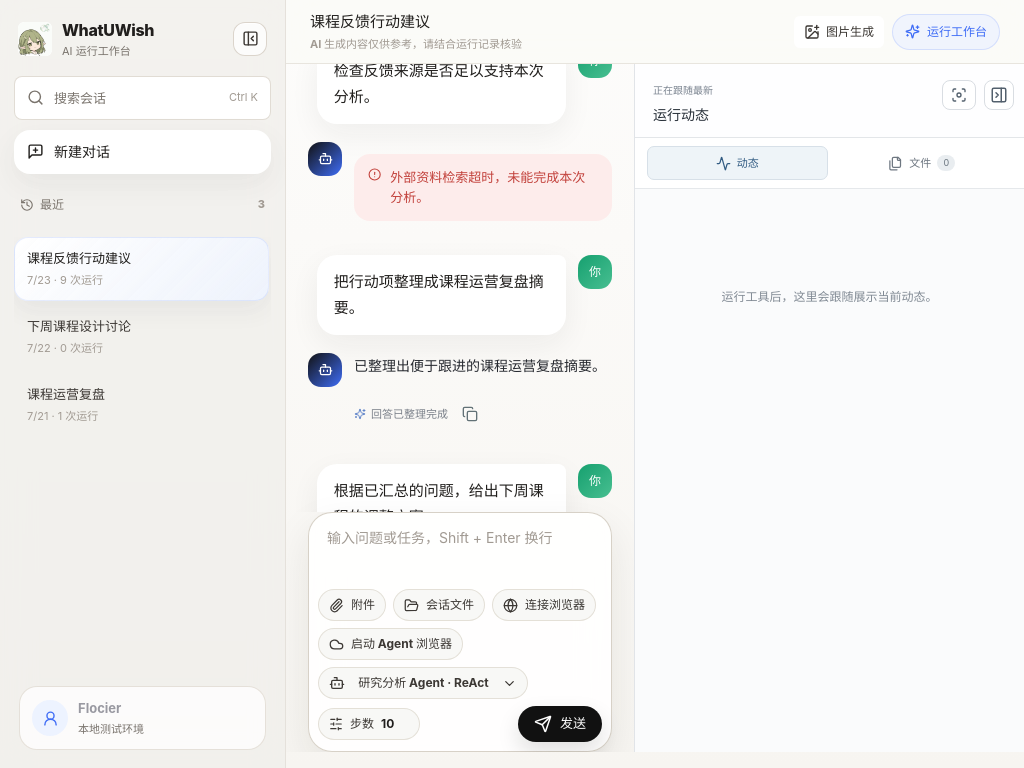
Test: App › 加载 AI 对话工作台的主要工作区域
(page scrolled)
Expected: the button "新建对话" is shown, [14,130,271,174]
Expected: the element named "会话导航" is shown, [0,0,286,767]
Click the button with aria-label "打开图片生成工作台": [839, 32] box [794,16,884,48]
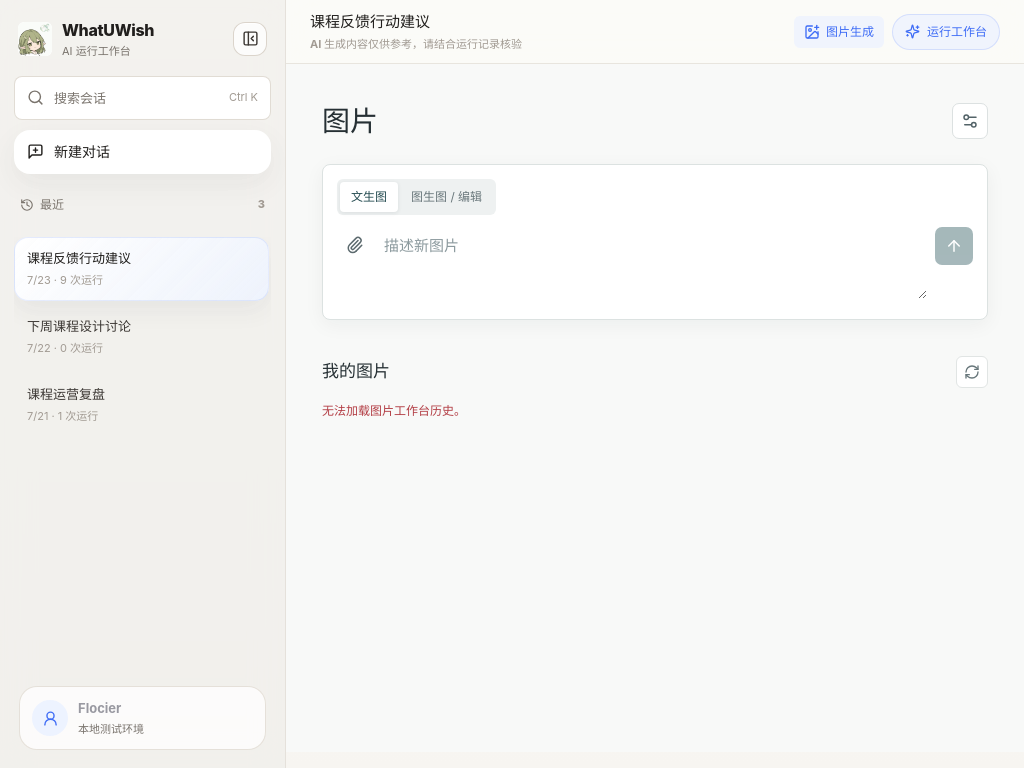
Now the element named "图片生成工作台" is shown
